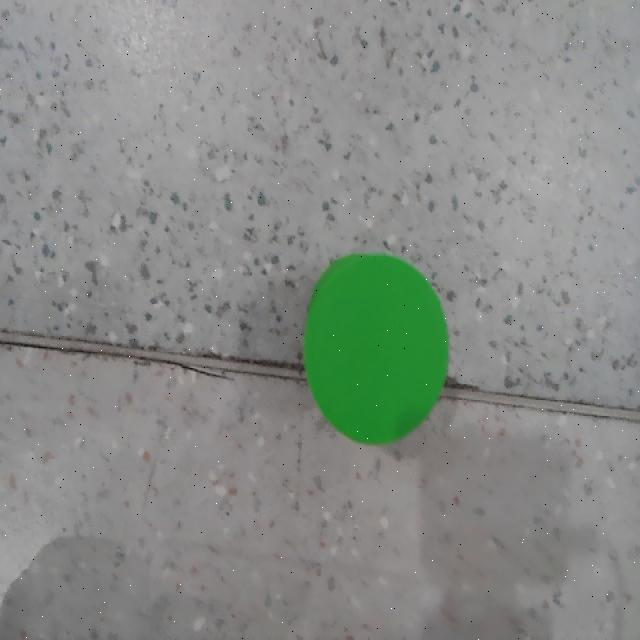g: (304, 255, 449, 444)
